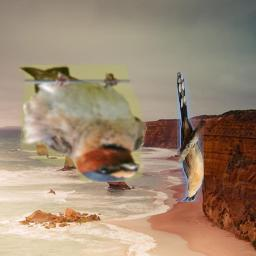Cuckoo: (177, 72, 204, 202)
Swallow: (18, 65, 148, 182)
